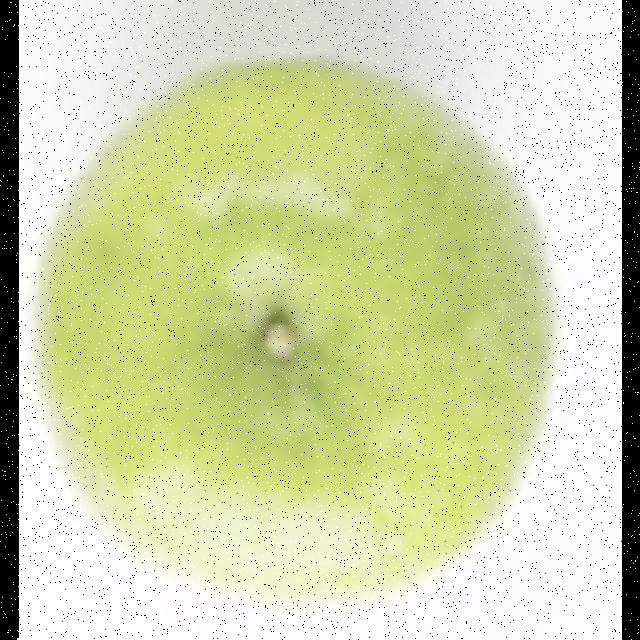Apel Segar: (32, 54, 559, 613)
